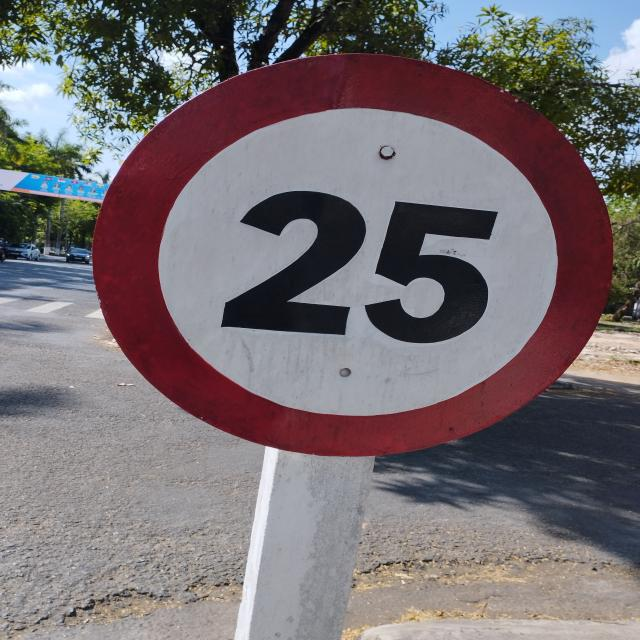Tre_Em: (92, 49, 620, 458)
